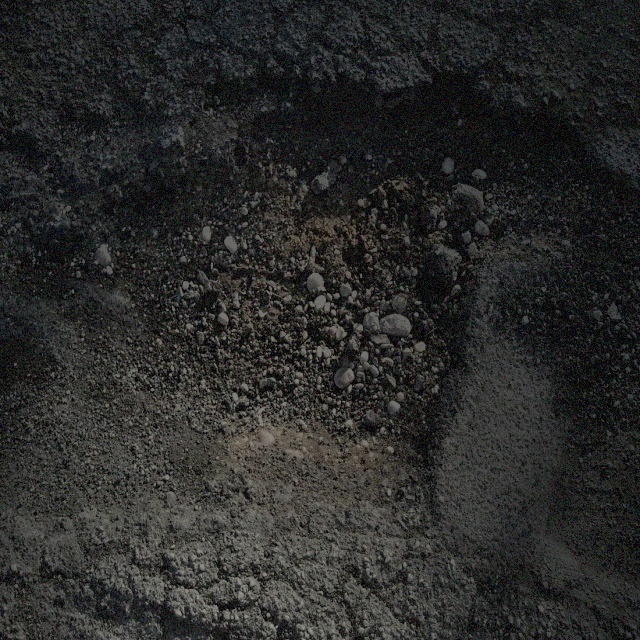pothole: (75, 66, 587, 451)
